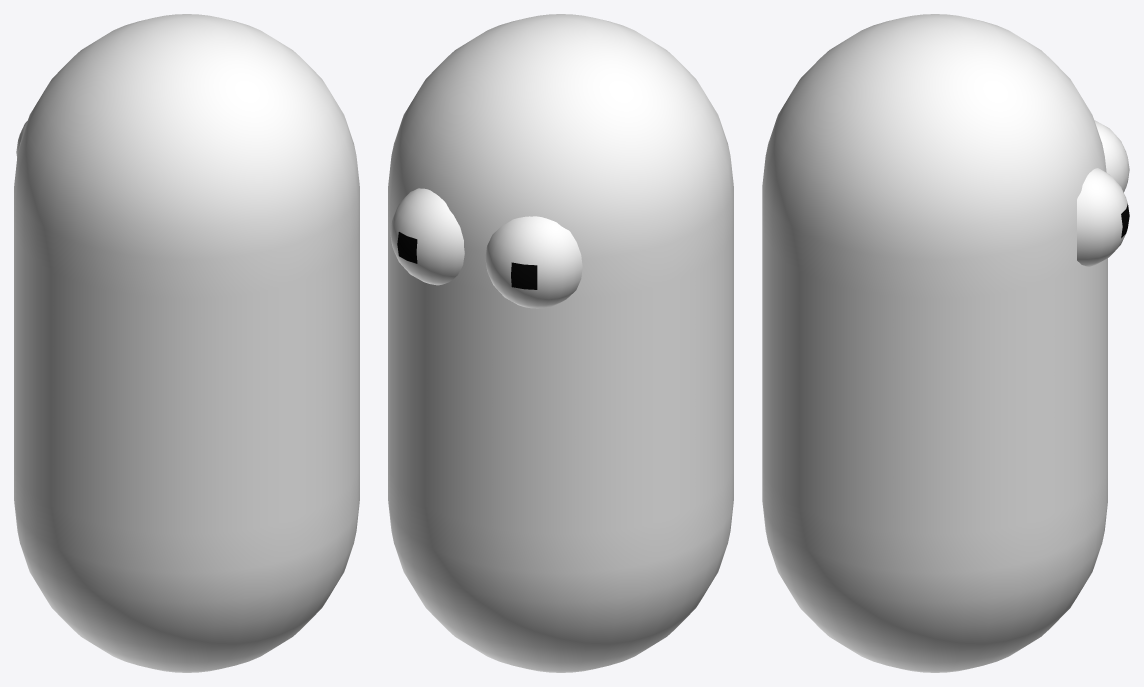
The model's file is char.fbx.
The picture shows the model from 3 angles, left to right: view 1: azimuth 30°, elevation 25°; view 2: azimuth 150°, elevation 25°; view 3: azimuth 270°, elevation 25°; orthographic projection.
Visible parts, largest first — view 1: Sphere_2; view 2: Sphere_2; view 3: Sphere_2.
Part boxes in pixels (x1,y1,x2,y2): Sphere_2: (14, 14, 359, 672); Sphere_2: (388, 14, 733, 672); Sphere_2: (762, 14, 1129, 672).
Bounding box in the file's own units: 100 × 200 × 106.
Materials: 1 (1 with a texture image).
